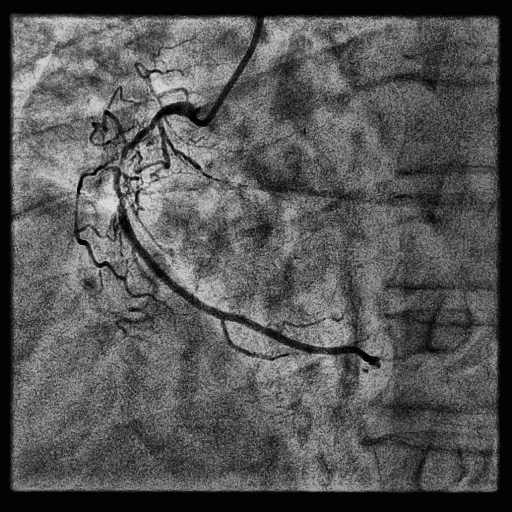pda: (270, 330, 379, 365)
rca: (113, 102, 273, 337)
